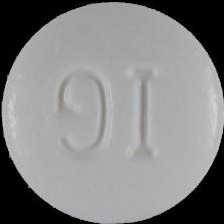31722-201: (0, 0, 224, 224)
